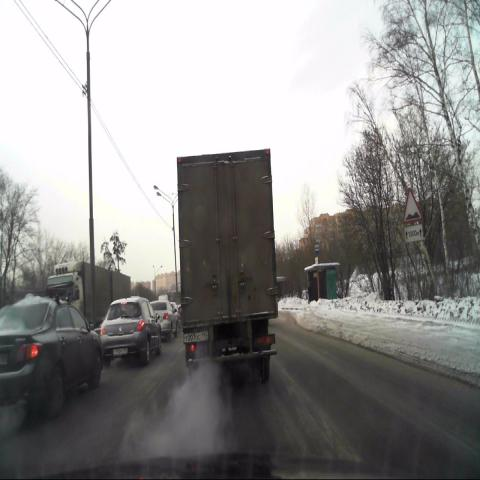1_16: (402, 187, 423, 224)
